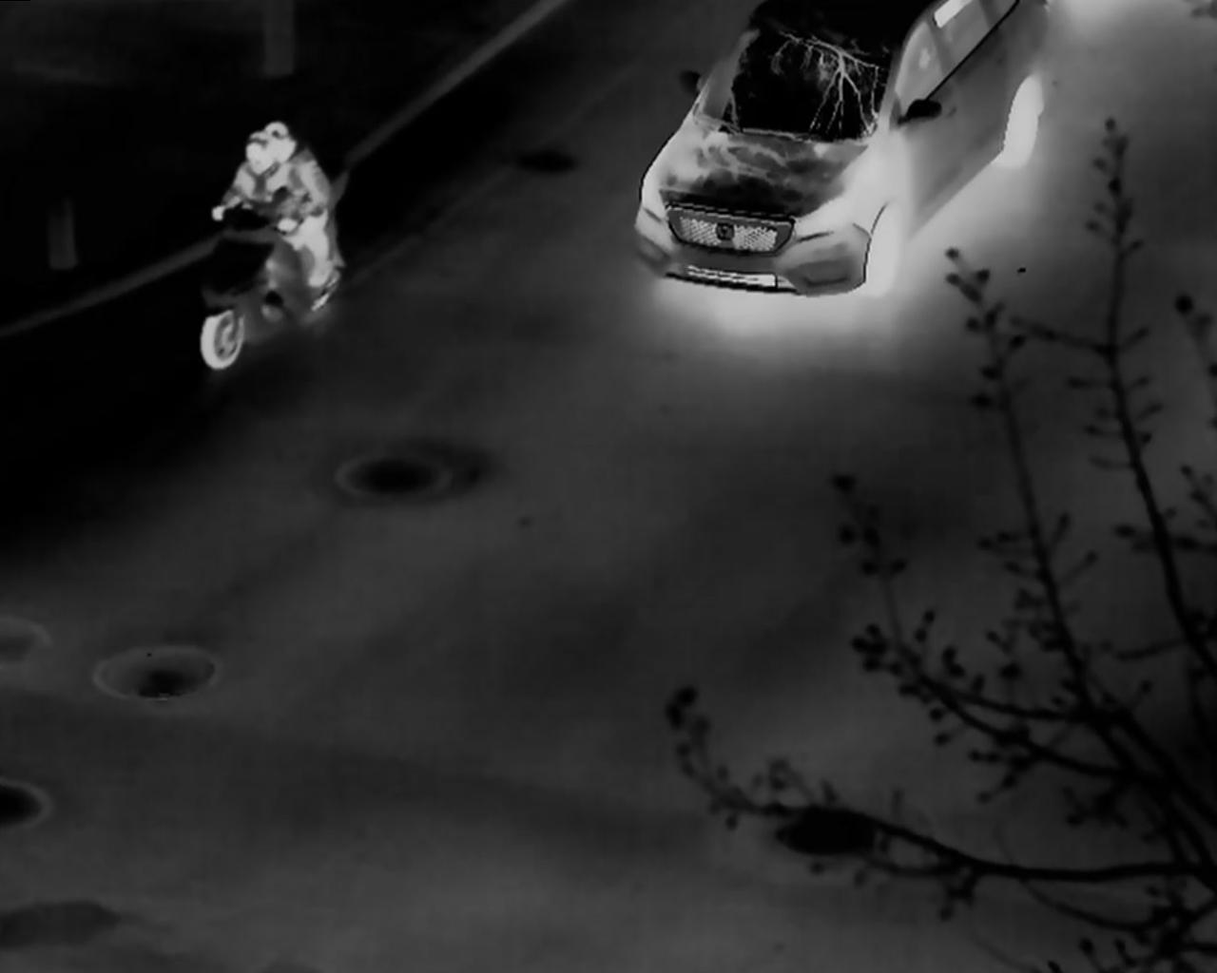person: (252, 115, 340, 306), (214, 127, 304, 227)
